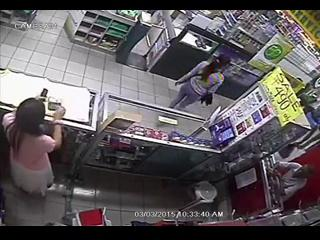Normal: (0, 98, 64, 200), (168, 55, 229, 112)
